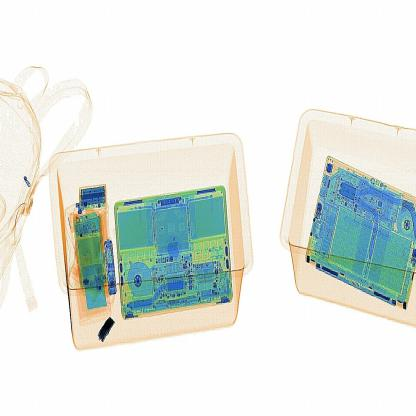scissors: (95, 318, 121, 344)
